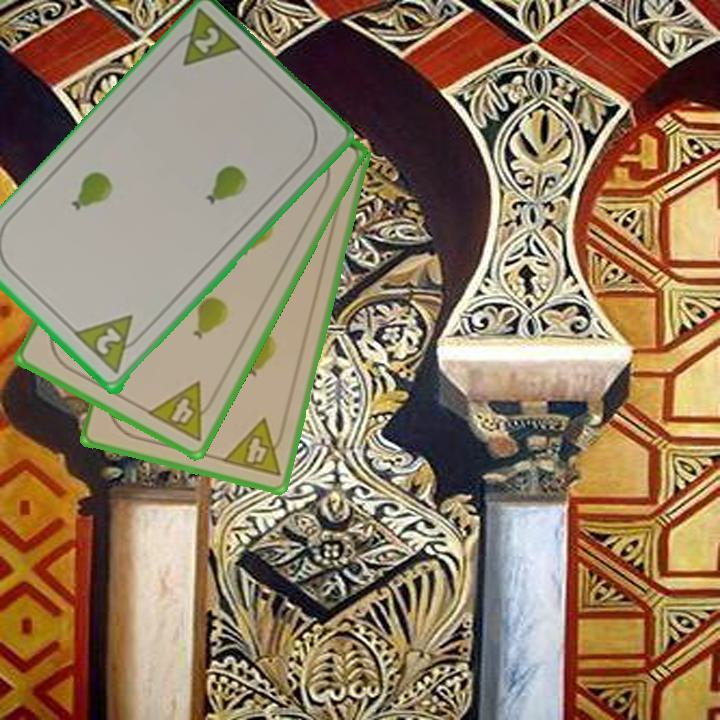2p: (164, 7, 248, 71), (72, 311, 150, 378)
4p: (144, 378, 222, 445), (219, 415, 290, 480)
